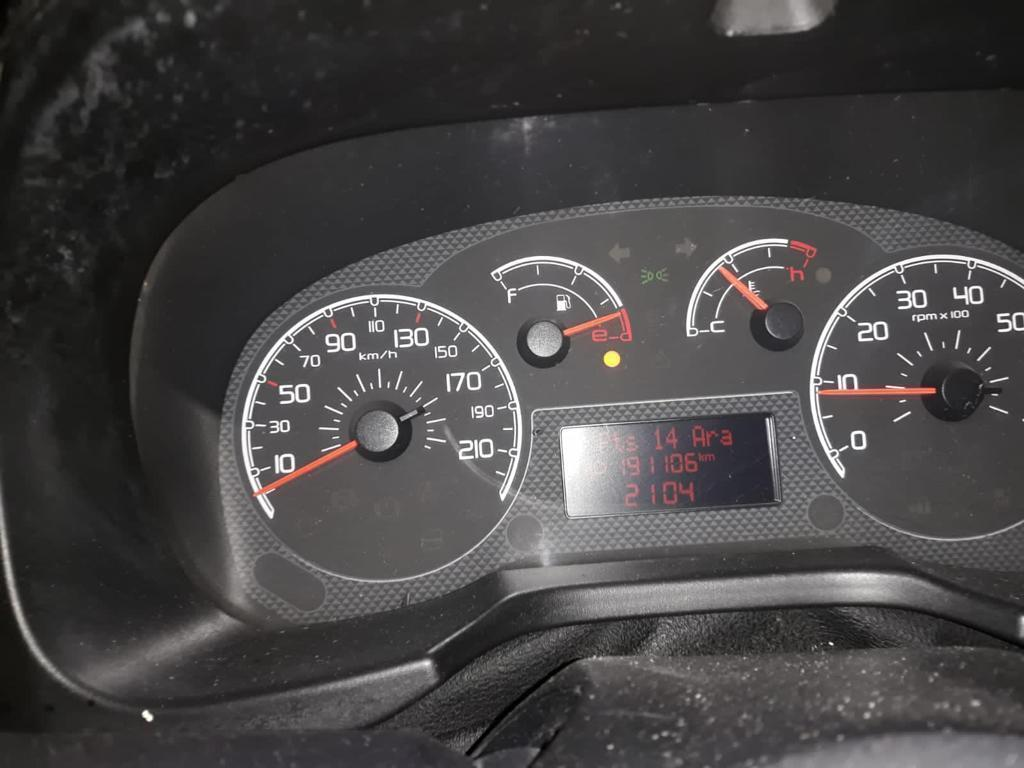0: (660, 479, 677, 506), (670, 451, 684, 474)
1: (654, 426, 663, 451), (649, 481, 657, 506), (647, 454, 656, 475), (620, 457, 626, 478), (664, 452, 669, 475)
2: (622, 482, 640, 509)
4: (679, 481, 696, 504), (665, 425, 679, 449)
6: (685, 451, 698, 473)
9: (627, 455, 641, 476)
X: (610, 430, 625, 453), (597, 428, 610, 454), (692, 425, 705, 447), (720, 427, 734, 446), (626, 434, 638, 452), (706, 429, 718, 446), (706, 452, 716, 462), (698, 451, 705, 462)
odometer: (555, 410, 786, 522)
